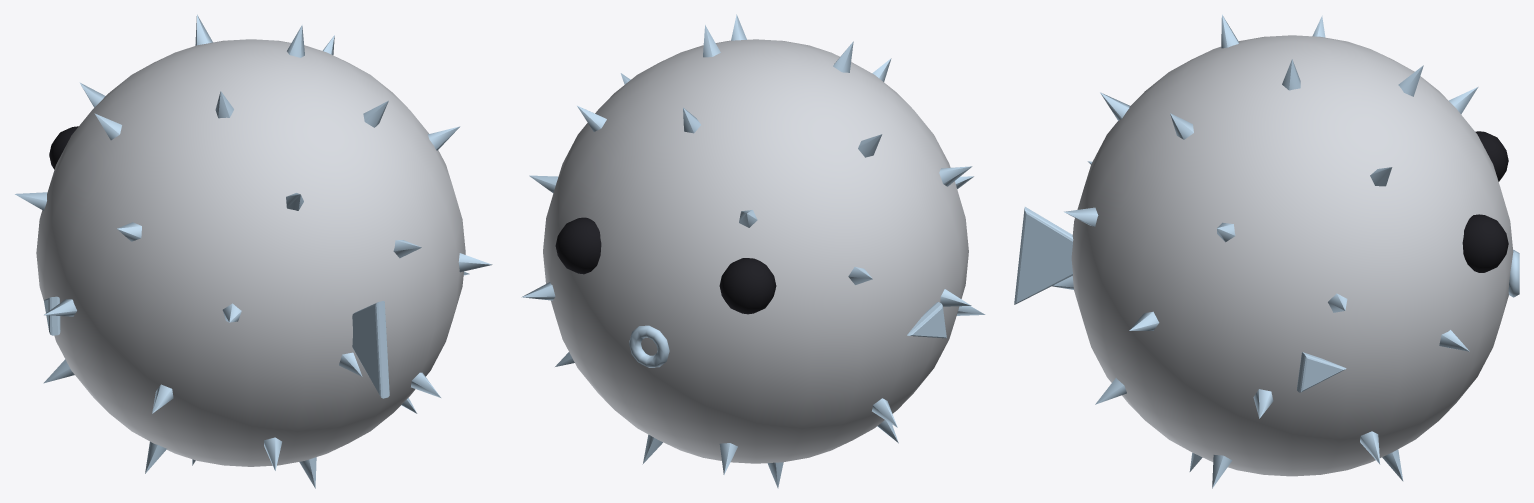
The model's file is FISH_SNOWPUFFER.glb.
3 renders of one model, left to right at view 1: azimuth 30°, elevation 25°; view 2: azimuth 150°, elevation 25°; view 3: azimuth 270°, elevation 25°, orthographic. The views are drawn at different scales.
Visible parts, largest first — view 1: Snowball, FrostSpike; view 2: Snowball, FrostSpike, Eye; view 3: Snowball, FrostSpike, Eye.
Part boxes in pixels (left/top/right/bottom): Snowball: left=36, top=39, right=465, bottom=466; FrostSpike: left=15, top=14, right=492, bottom=488; Snowball: left=543, top=39, right=968, bottom=463; FrostSpike: left=521, top=14, right=985, bottom=488; Eye: left=555, top=217, right=776, bottom=314; Snowball: left=1071, top=35, right=1513, bottom=476; FrostSpike: left=1014, top=14, right=1519, bottom=488; Eye: left=1462, top=131, right=1508, bottom=272.
Bounding box in the file's own units: 0.6041 × 0.6 × 0.6162.
